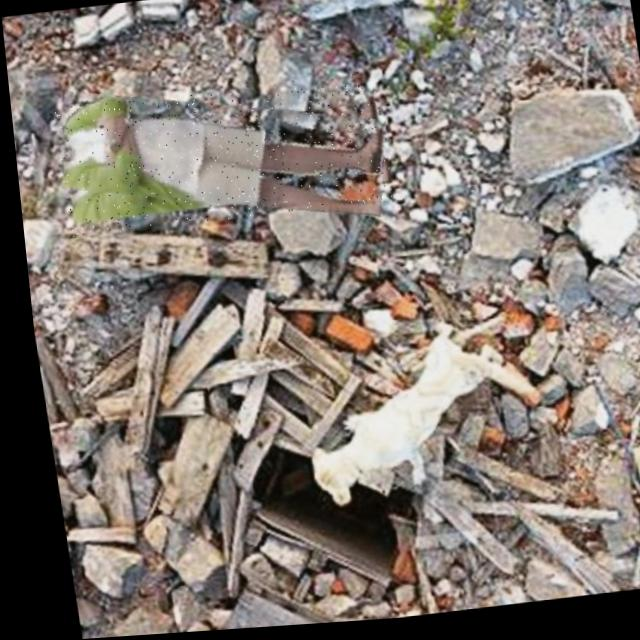Person in Rubble: (47, 74, 393, 239)
